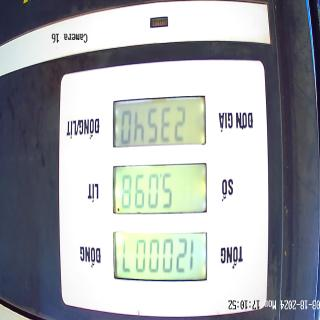screen: (111, 90, 208, 287)
